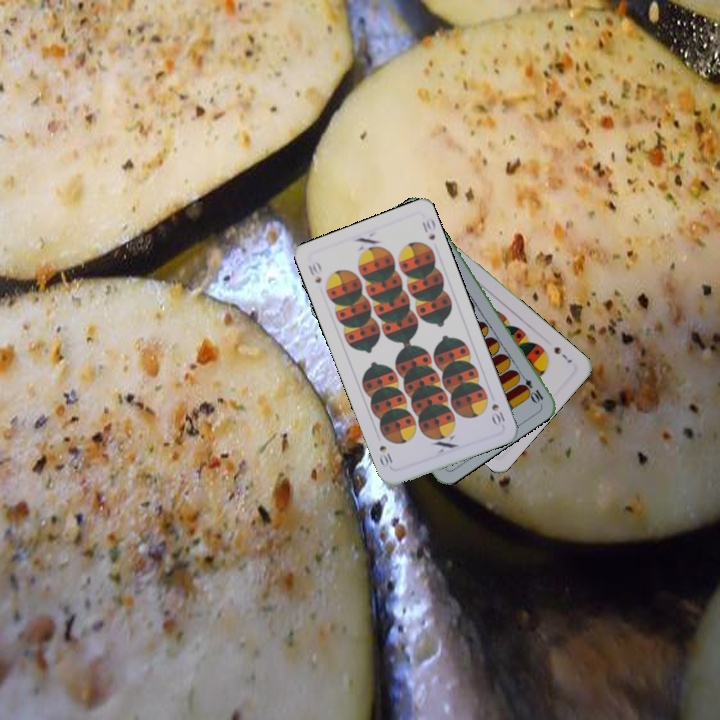E10: (515, 369, 546, 406)
S10: (487, 399, 508, 428), (304, 258, 324, 286)
S7: (550, 342, 575, 366)
